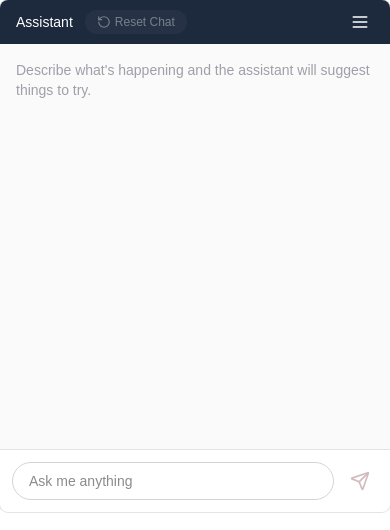
Test case: lays the context panel over the chat on small screens
Click the button named "show ben's info" at [360, 22], box x1=346 y1=8 x2=374 y2=36
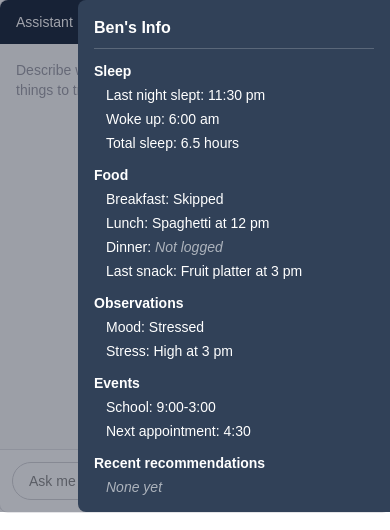
Result: the button named "close ben's info" is shown
